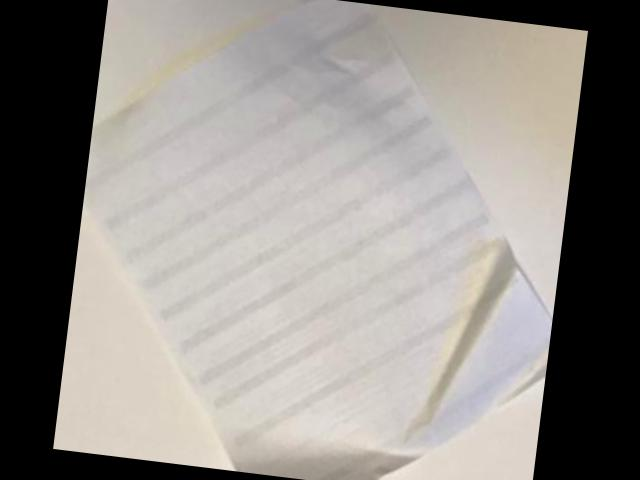cardboard paper: (89, 0, 552, 480)
